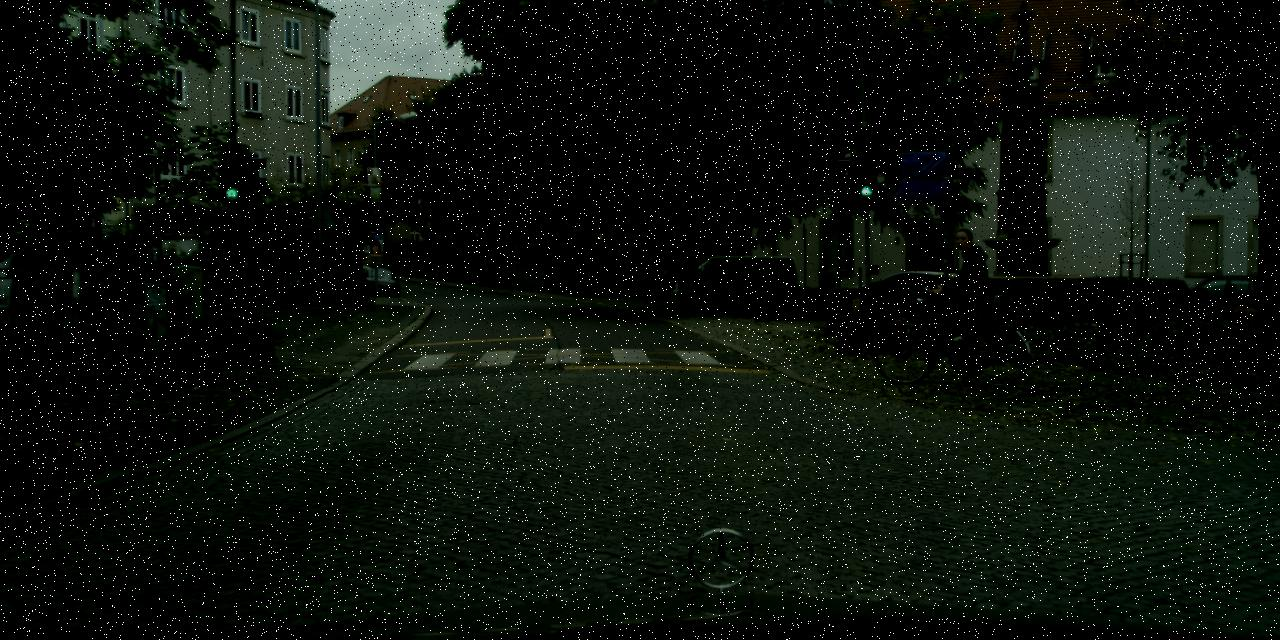ped: (936, 228, 992, 362), (424, 254, 434, 279)
